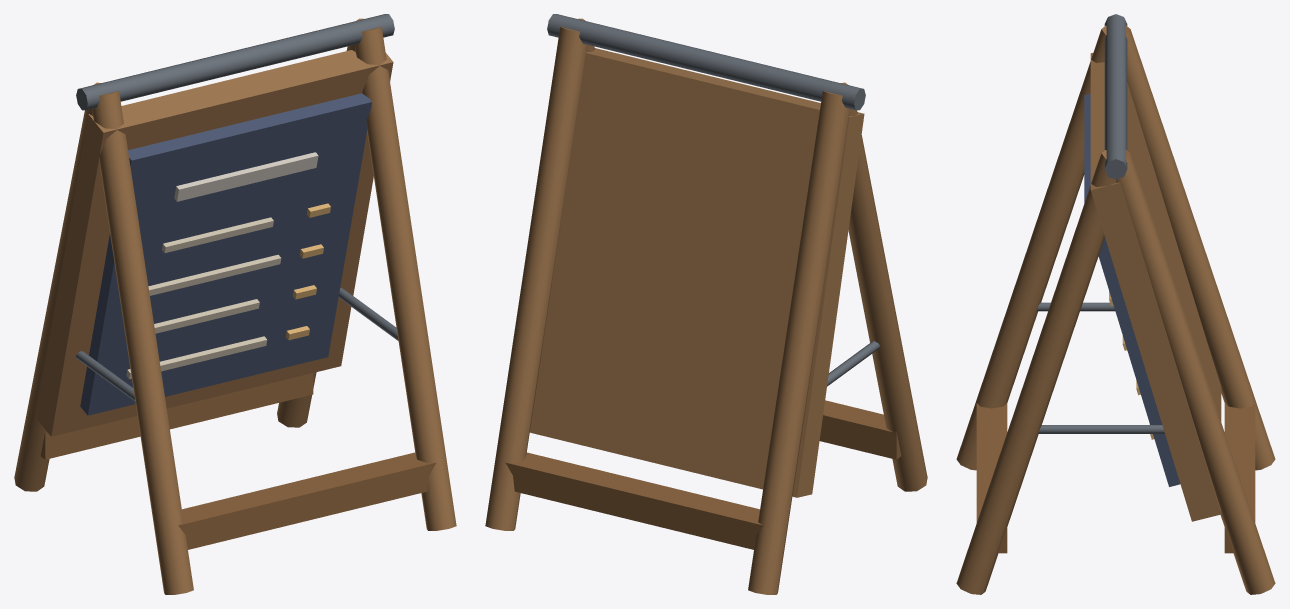
The model's file is komachi-a-board.glb.
The picture shows the model from 3 angles, left to right: view 1: azimuth 30°, elevation 25°; view 2: azimuth 150°, elevation 25°; view 3: azimuth 270°, elevation 25°; orthographic projection. The views are drawn at different scales.
Visible parts, largest first — view 1: A_Board_Menu; view 2: A_Board_Menu; view 3: A_Board_Menu.
Boxes of the visible parts, x1,y1,x2,y2 form: A_Board_Menu: (14,14,456,594); A_Board_Menu: (485,14,927,594); A_Board_Menu: (956,14,1275,594).
Size of the model in its own units: 0.18 by 0.2563 by 0.1673.
